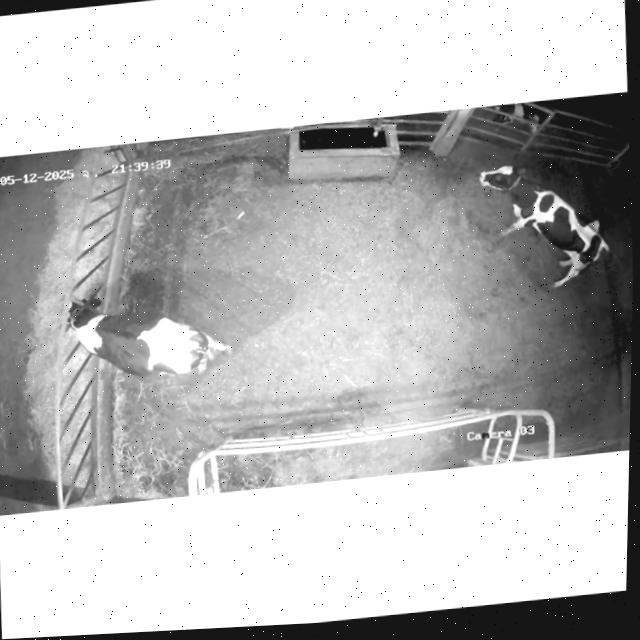stand: (479, 165, 609, 286)
